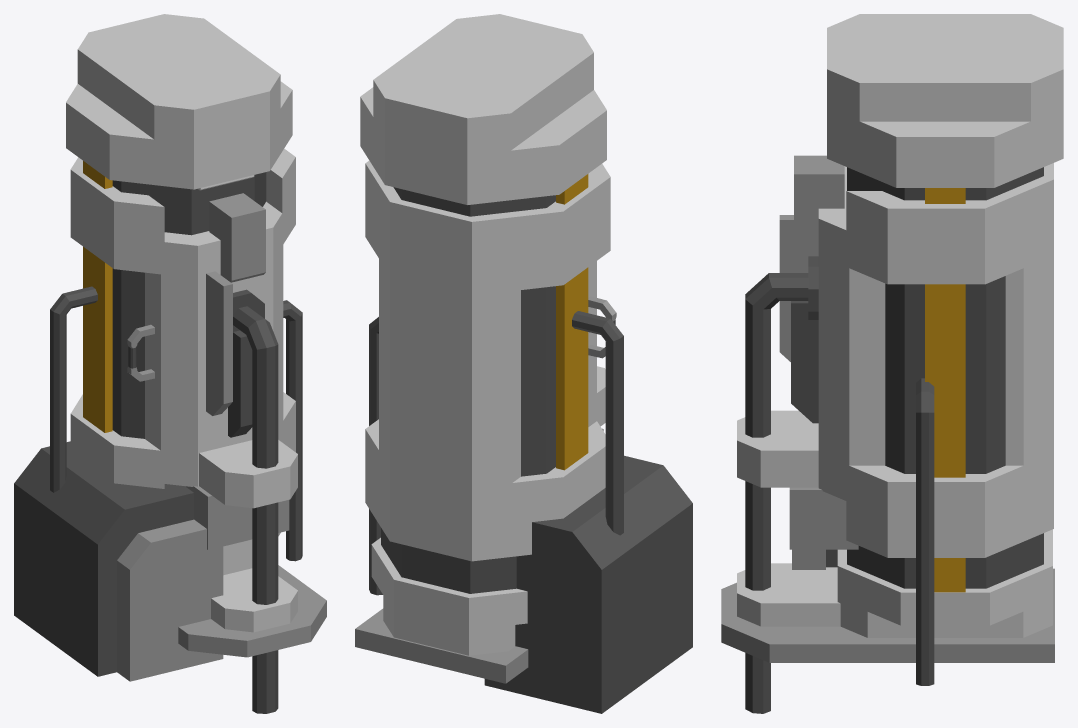
Rendered from SM_Machine_6.fbx.
3 views of the same model, side by side, from view 1: azimuth 30°, elevation 25°; view 2: azimuth 150°, elevation 25°; view 3: azimuth 270°, elevation 25° (orthographic). The views are drawn at different scales.
Visible parts, largest first — view 1: SM_Machine_6; view 2: SM_Machine_6; view 3: SM_Machine_6.
Boxes of the visible parts, x1,y1,x2,y2 form: SM_Machine_6: (14, 14, 326, 713); SM_Machine_6: (355, 14, 692, 713); SM_Machine_6: (721, 14, 1063, 713).
Bounding box in the file's own units: 200 × 450 × 212.
